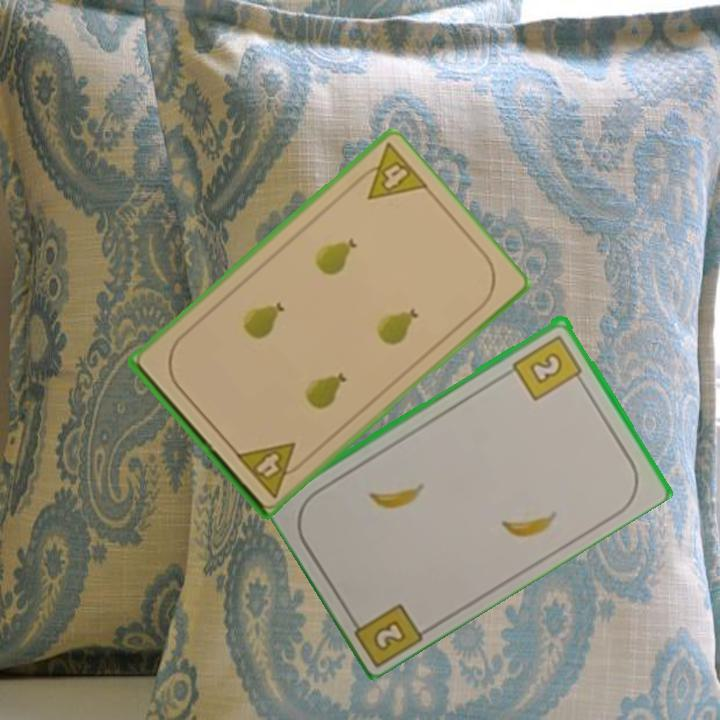2b: (344, 599, 428, 667), (509, 331, 587, 403)
4p: (348, 139, 431, 203), (232, 438, 310, 501)
